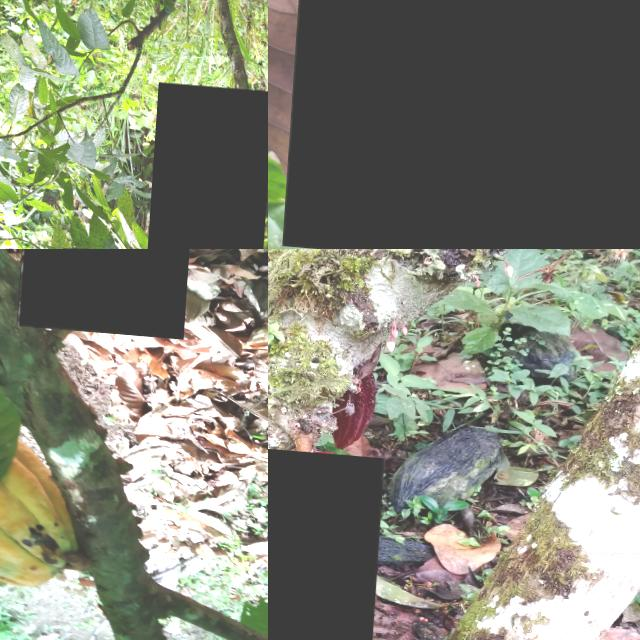Fitoftora: (268, 442, 387, 640), (141, 78, 268, 249), (20, 249, 198, 333), (0, 446, 92, 584)
Monilia: (289, 0, 640, 249)
